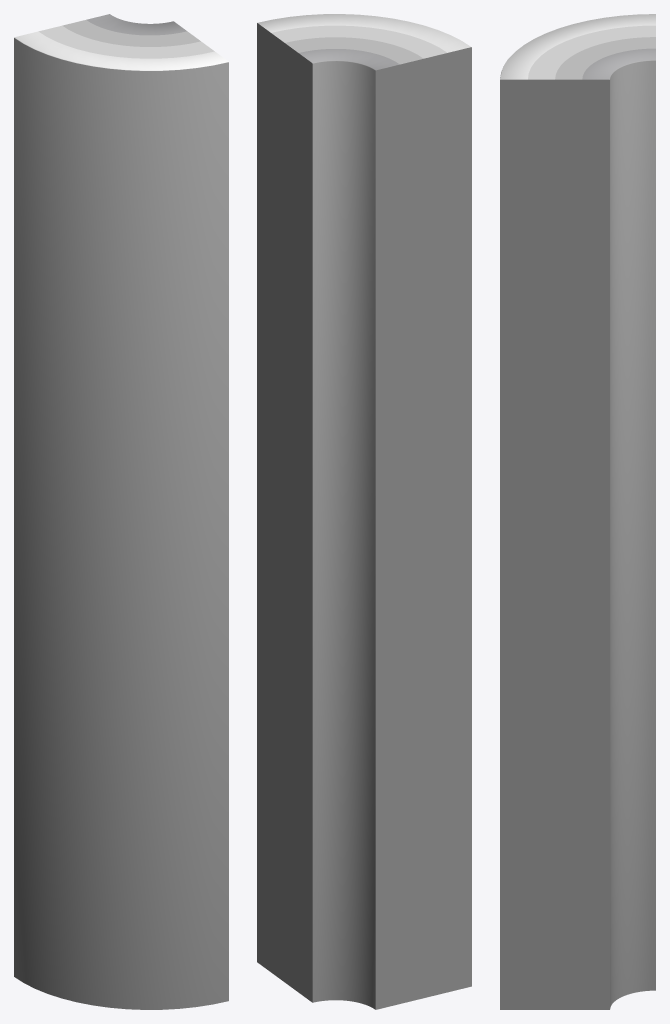
File: road_turn_5_left.FBX
3 views of the same model, side by side, from view 1: azimuth 30°, elevation 25°; view 2: azimuth 210°, elevation 25°; view 3: azimuth 270°, elevation 25° (orthographic).
Visible parts, largest first — view 1: road_turn_5_left; view 2: road_turn_5_left; view 3: road_turn_5_left.
Boxes of the visible parts, bbox=[...] form: road_turn_5_left: bbox=[14, 14, 228, 1009]; road_turn_5_left: bbox=[257, 14, 471, 1009]; road_turn_5_left: bbox=[500, 14, 655, 1009].
Bounding box in the file's own units: 17 × 112 × 17.
Materials: 1 (1 with a texture image).
